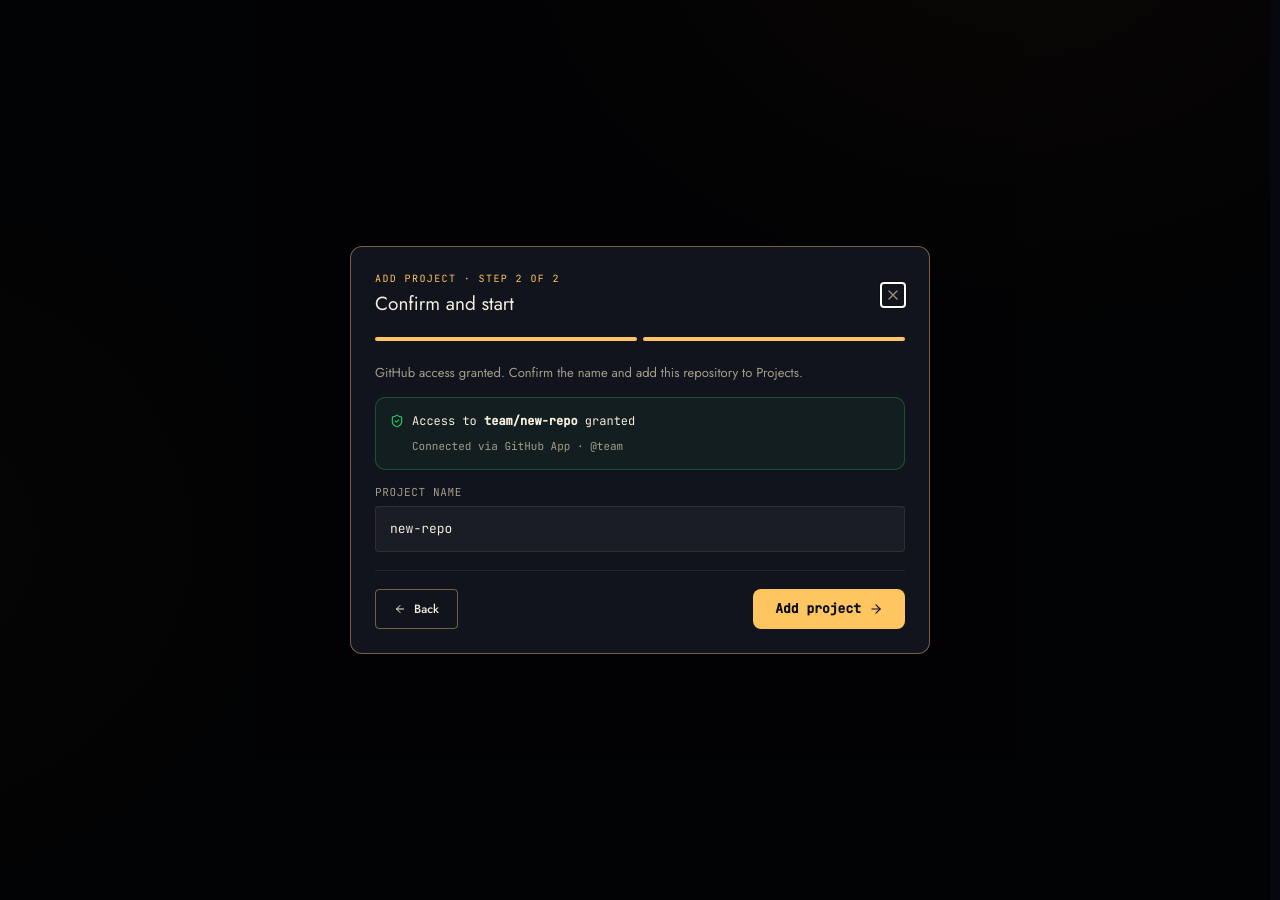
Scenario: Add Project persistence handoff › blocks duplicate saves and closing the wizard while creation is in flight
This screenshot has width=1280, height=900.
Later steps or results of the test are not shown.
Click the button with test id "wizard-save" at (829, 609), box [753,589,905,629]
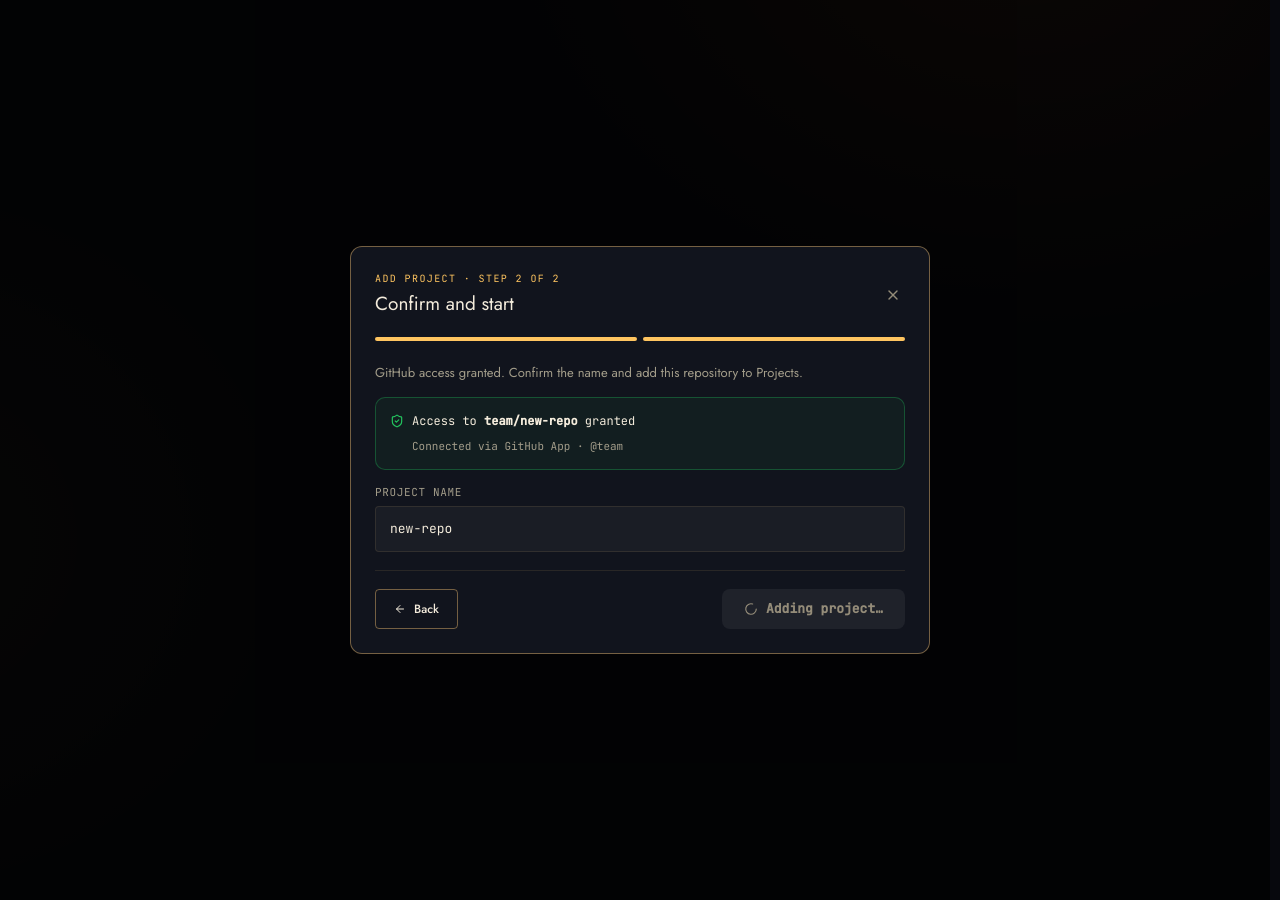
Click the button with test id "wizard-save" at (814, 609), box [722,589,905,629]
Click the element with test id "add-project-wizard-backdrop" at (77, 450), box [0,0,1279,899]
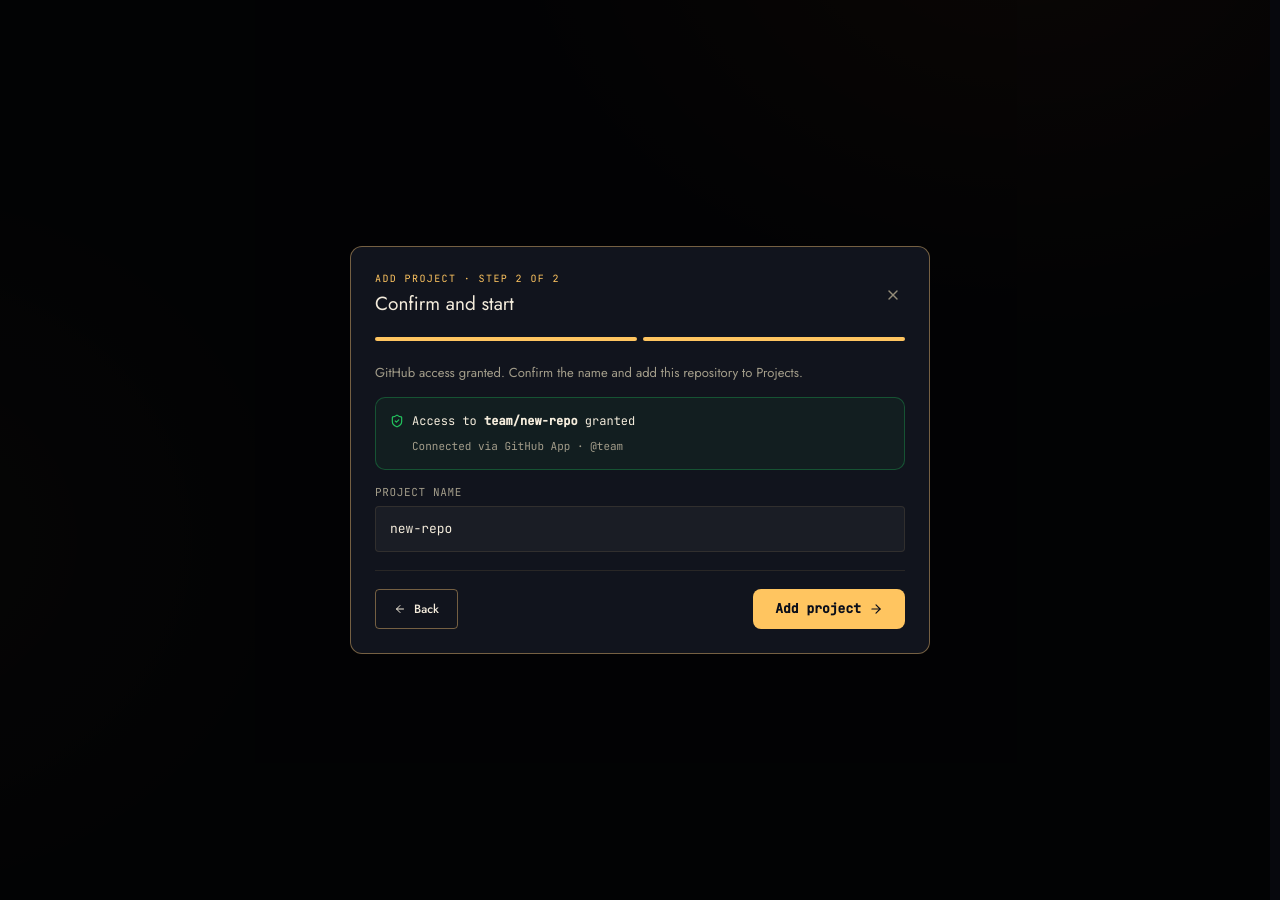
Check: the button with test id "wizard-save" is enabled, box [753,589,905,629]
